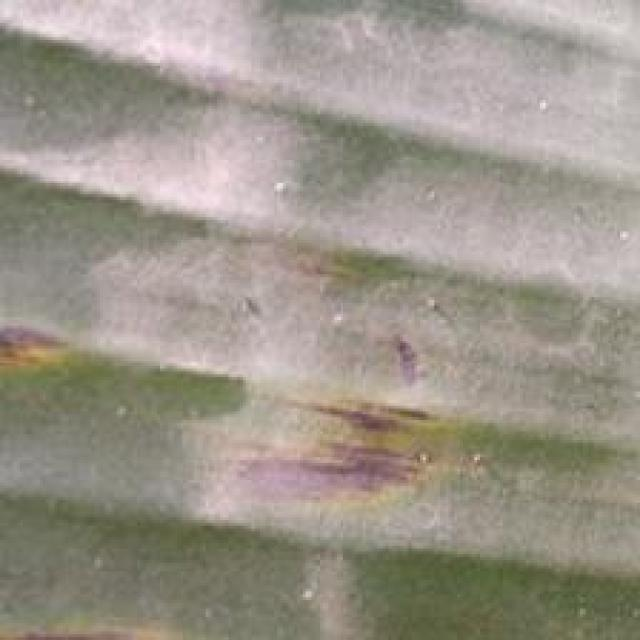Early_leaf_spot: (193, 349, 464, 550), (0, 297, 86, 403)
